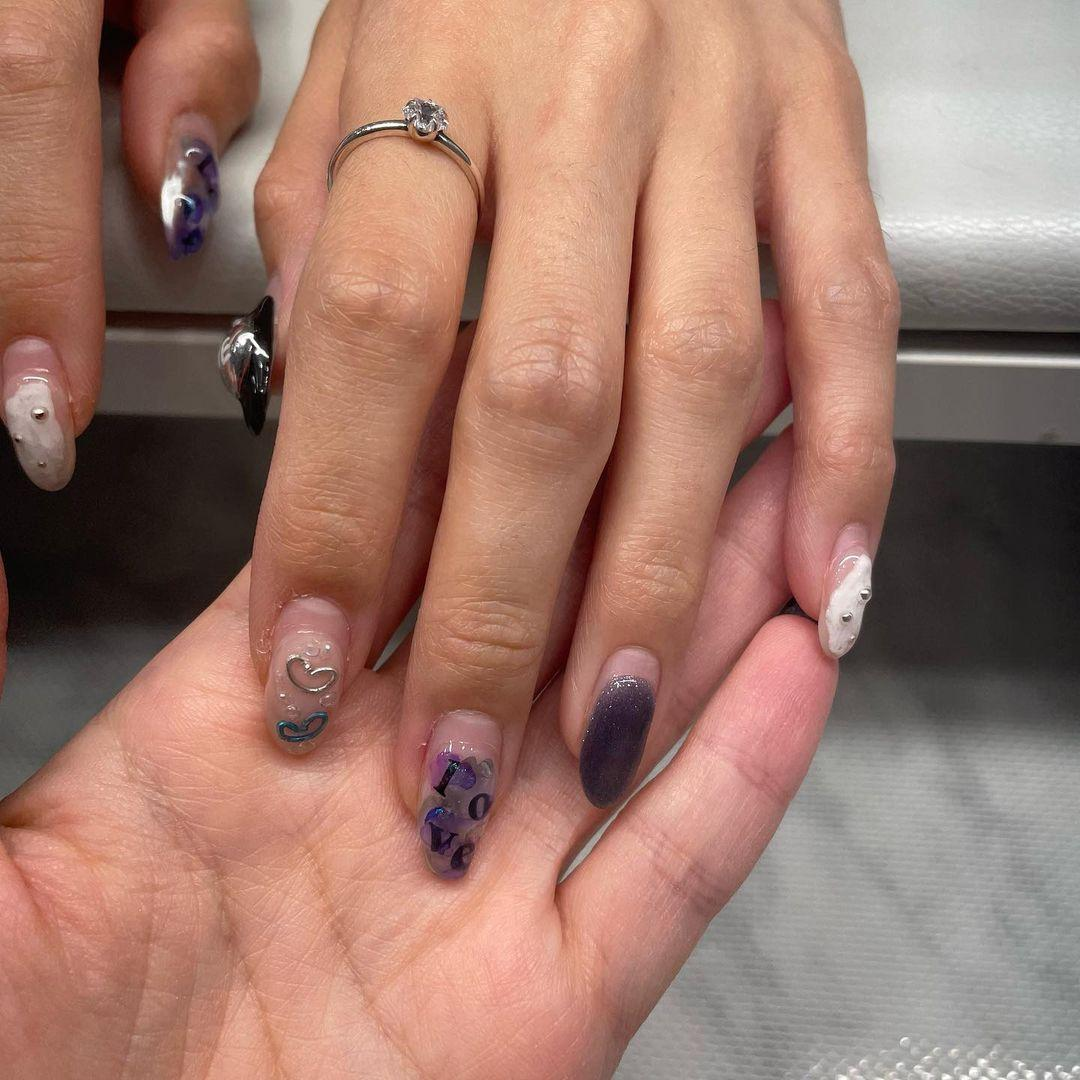nail: (416, 707, 502, 879), (577, 643, 661, 809), (263, 594, 352, 747), (0, 334, 77, 492), (216, 294, 275, 435), (158, 126, 220, 259), (819, 548, 873, 657)
